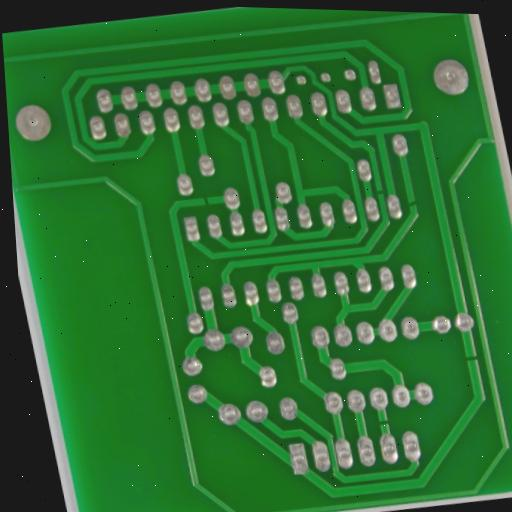open_circuit: (461, 353, 484, 367), (405, 195, 423, 211), (376, 415, 392, 431), (200, 193, 216, 209), (373, 186, 386, 198)
